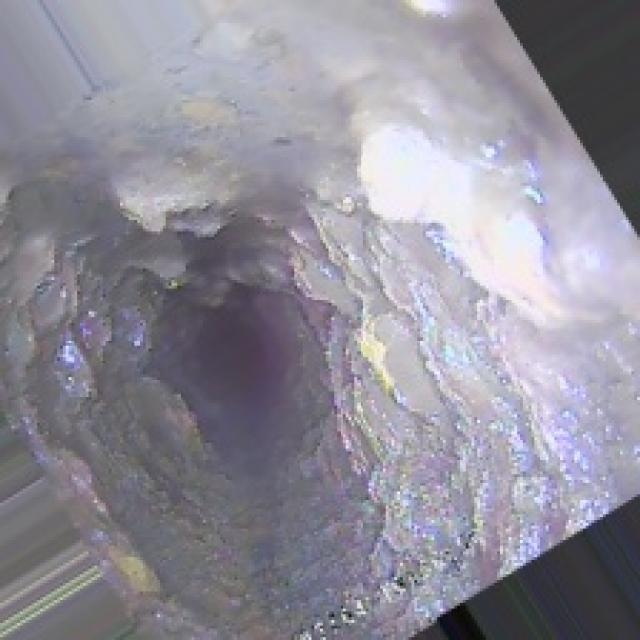encrustation: (323, 100, 588, 500)
